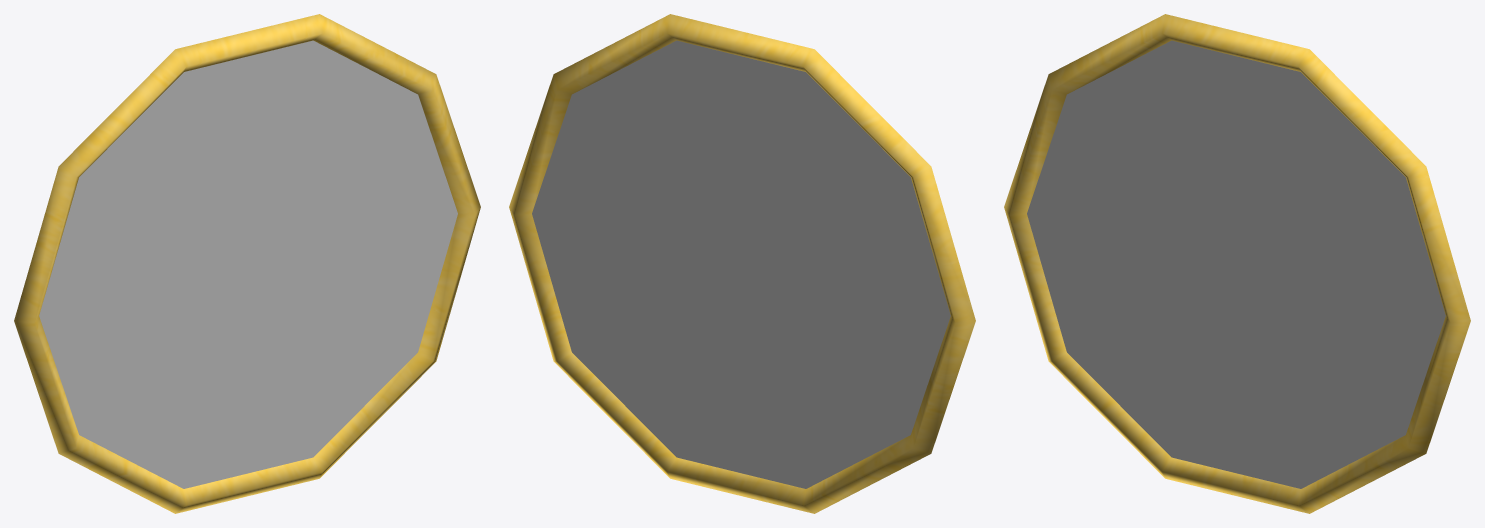
File: Monacle.fbx
3 views of the same model, side by side, from view 1: azimuth 30°, elevation 25°; view 2: azimuth 150°, elevation 25°; view 3: azimuth 330°, elevation 25° (orthographic).
Parts seen in each view (by area): view 1: Monacle; view 2: Monacle; view 3: Monacle.
Boxes of the visible parts, x1,y1,x2,y2 form: Monacle: (14,14,480,513); Monacle: (509,14,975,513); Monacle: (1004,14,1470,513).
Bounding box in the file's own units: 2 × 1.9 × 0.1062.
